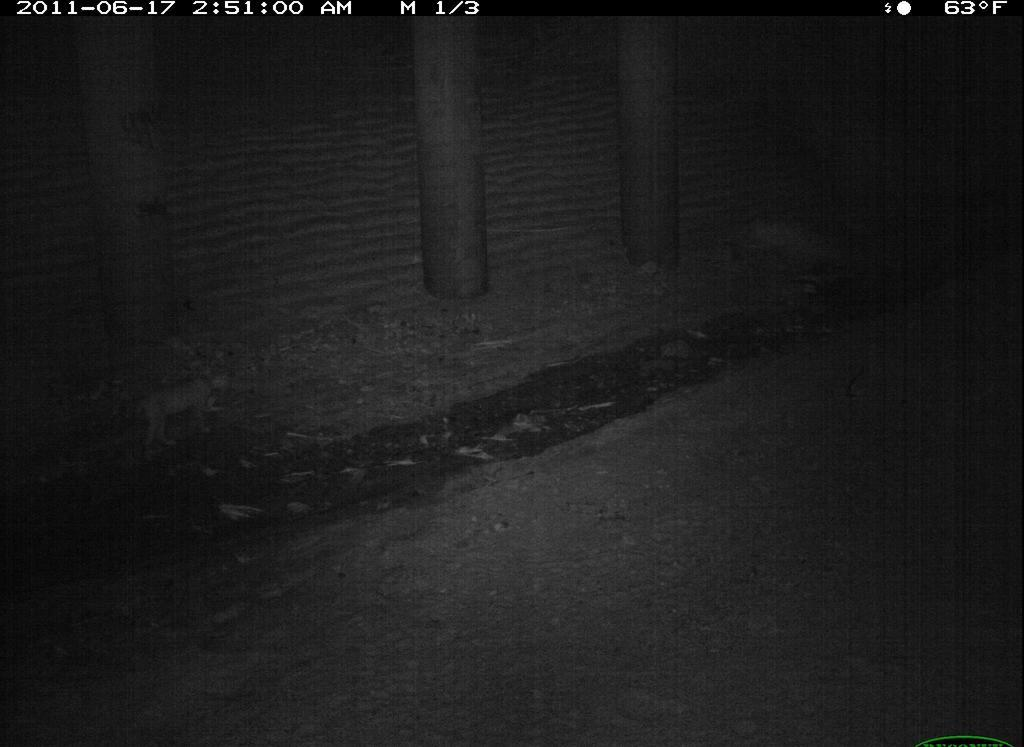bobcat: (253, 718, 495, 747)
